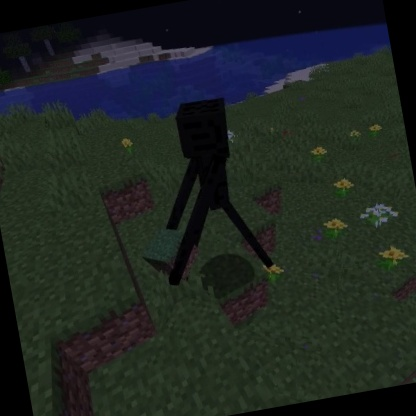enderman: (124, 89, 278, 292)
